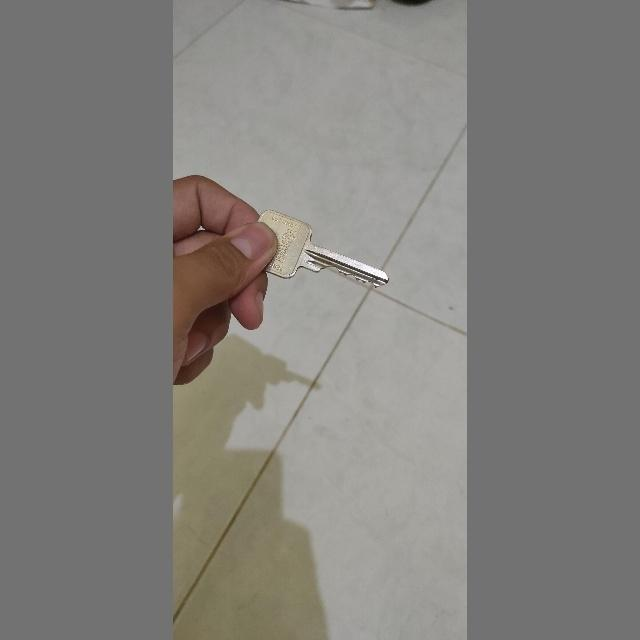Keys: (242, 197, 390, 293)
